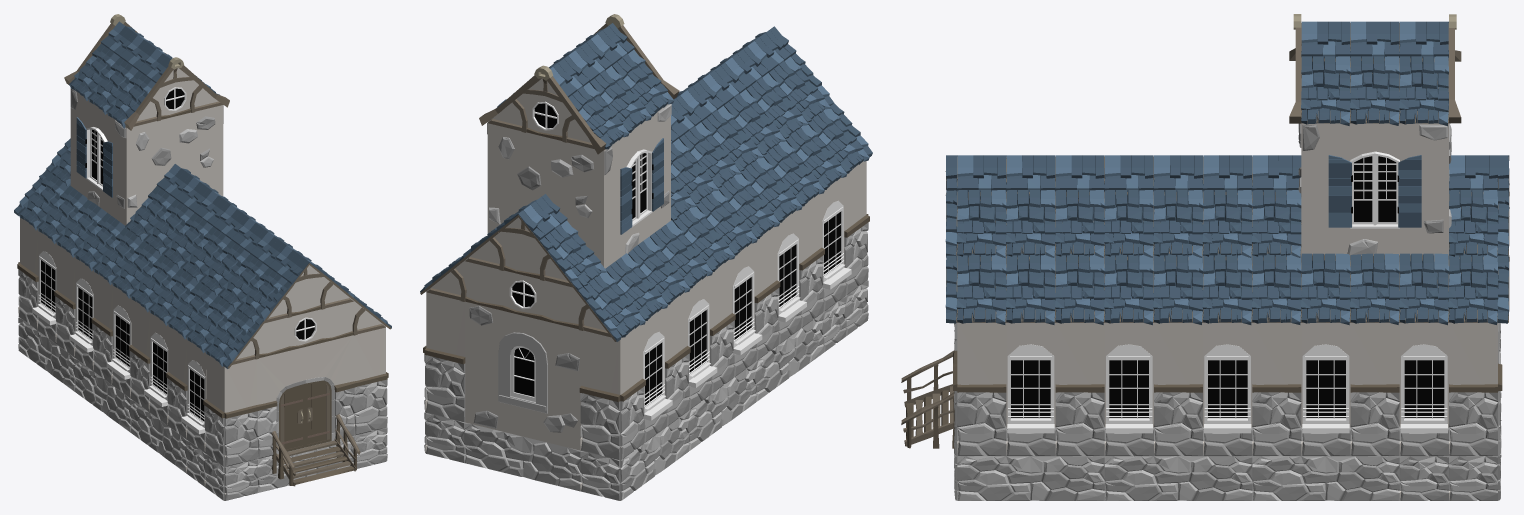
The model's file is house_8.fbx.
The picture shows the model from 3 angles, left to right: view 1: azimuth 30°, elevation 25°; view 2: azimuth 150°, elevation 25°; view 3: azimuth 270°, elevation 25°; orthographic projection. The views are drawn at different scales.
Visible parts, largest first — view 1: DOOR_04_3, WALL_06_2, WINDOW_04_6, WALL_04_42, WALL_04_43, STAIRS_01_2, WALL_04_41, WALL_04_39, WINDOW_02_15, WINDOW_02_16, FOUNDATION_01_7, WINDOW_02_12 (+58 smaller); view 2: WINDOW_07_3, WALL_06_3, WINDOW_04_6, FOUNDATION_01_6, WALL_04_35, WALL_04_34, WALL_04_36, FOUNDATION_01_7, WINDOW_02_12, WALL_04_39, WALL_04_40, FOUNDATION_01_9 (+58 smaller); view 3: WINDOW_04_7, WINDOW_02_21, WINDOW_02_18, WINDOW_02_20, WINDOW_02_19, WINDOW_02_17, FOUNDATION_01_4, WALL_04_48, WALL_04_47, WALL_04_45, FOUNDATION_01_5, FOUNDATION_01_3 (+45 smaller).
Part boxes in pixels (left/top/right/bottom): DOOR_04_3: left=257, top=335, right=355, bottom=458; WALL_06_2: left=126, top=105, right=223, bottom=223; WINDOW_04_6: left=70, top=88, right=128, bottom=225; WALL_04_42: left=223, top=359, right=258, bottom=466; WALL_04_43: left=353, top=328, right=387, bottom=435; STAIRS_01_2: left=271, top=414, right=360, bottom=486; WALL_04_41: left=203, top=354, right=226, bottom=466; WALL_04_39: left=129, top=300, right=150, bottom=411; WINDOW_02_15: left=69, top=258, right=94, bottom=370; WINDOW_02_16: left=32, top=231, right=57, bottom=343; FOUNDATION_01_7: left=18, top=317, right=76, bottom=391; WINDOW_02_12: left=181, top=340, right=206, bottom=452; WINDOW_07_3: left=465, top=301, right=581, bottom=450; WALL_06_3: left=487, top=122, right=605, bottom=267; WINDOW_04_6: left=601, top=104, right=671, bottom=268; FOUNDATION_01_6: left=464, top=422, right=581, bottom=491; WALL_04_35: left=579, top=330, right=621, bottom=460; WALL_04_34: left=424, top=293, right=465, bottom=422; WALL_04_36: left=618, top=325, right=645, bottom=460; FOUNDATION_01_7: left=617, top=411, right=689, bottom=500; WINDOW_02_12: left=821, top=177, right=851, bottom=311; WALL_04_39: left=754, top=226, right=780, bottom=361; WALL_04_40: left=799, top=194, right=824, bottom=328; FOUNDATION_01_9: left=755, top=313, right=823, bottom=401; WINDOW_04_7: left=1301, top=123, right=1448, bottom=255; WINDOW_02_21: left=1006, top=322, right=1055, bottom=456; WINDOW_02_18: left=1301, top=322, right=1350, bottom=456; WINDOW_02_20: left=1104, top=322, right=1153, bottom=456; WINDOW_02_19: left=1203, top=322, right=1252, bottom=456; WINDOW_02_17: left=1399, top=322, right=1448, bottom=456; FOUNDATION_01_4: left=1104, top=455, right=1252, bottom=500; WALL_04_48: left=1350, top=322, right=1399, bottom=456; WALL_04_47: left=1252, top=322, right=1301, bottom=456; WALL_04_45: left=1055, top=322, right=1104, bottom=456; FOUNDATION_01_5: left=1252, top=455, right=1399, bottom=500; FOUNDATION_01_3: left=957, top=455, right=1104, bottom=500.
Bounding box in the file's own units: 541 × 973 × 1237.
